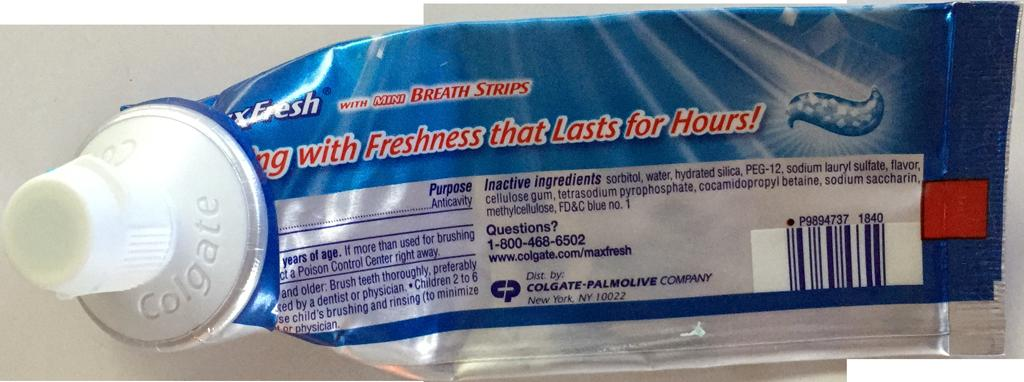toothpaste: (1, 2, 1024, 380)
